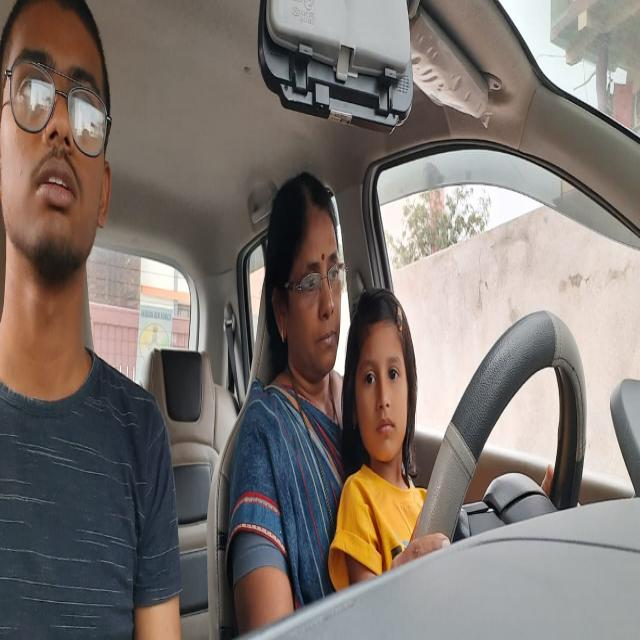child: (348, 306, 414, 472)
person: (5, 18, 111, 278), (268, 179, 344, 379)
